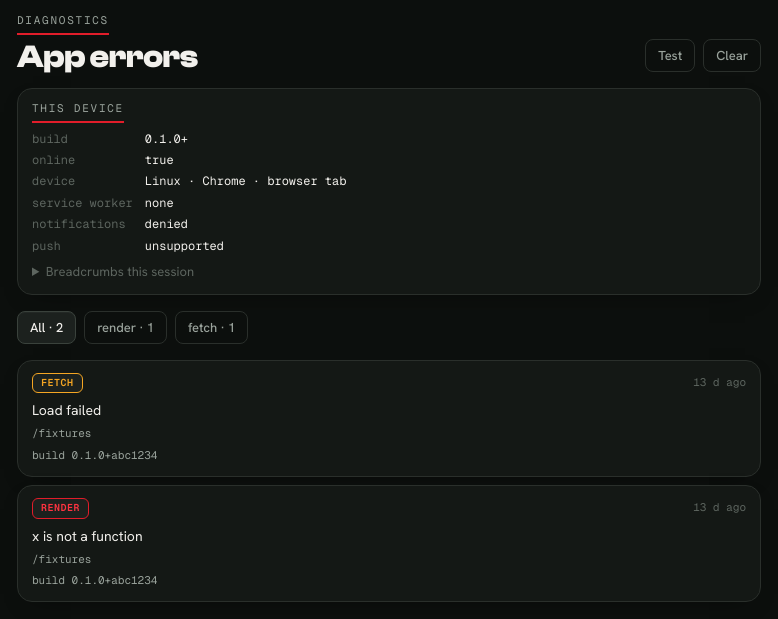
Test: Diagnostics › kind chips filter the list
Check: the text "Load failed" is shown, box [32,401,101,419]
Click the button "render · 1" at coordinates (126, 327), box [84,311,167,344]
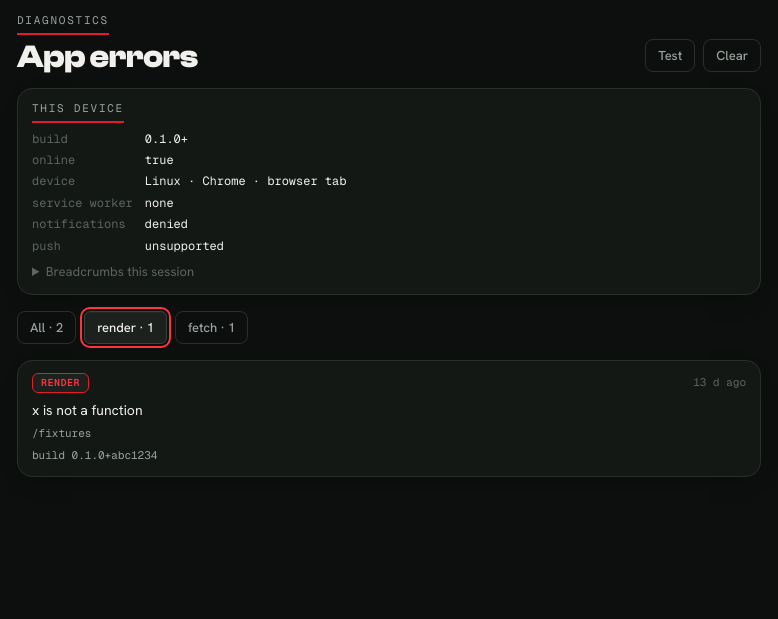
Check: the text "x is not a function" is shown, box [32,401,143,419]
Check: the button "Load failed" is gone
